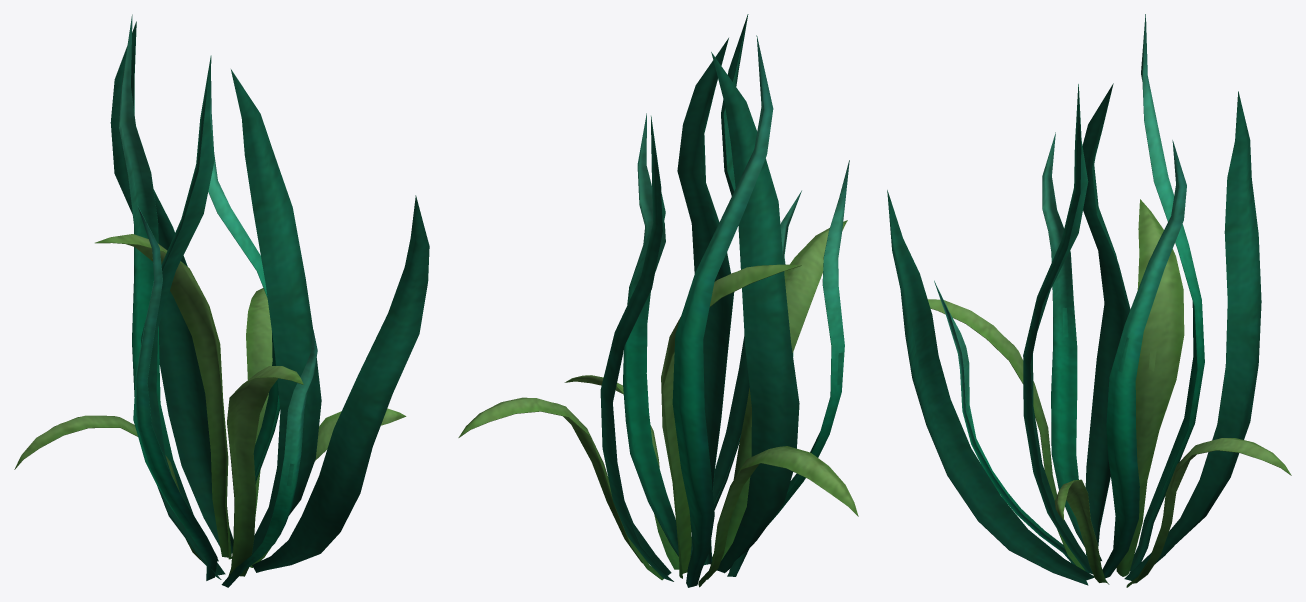
File: SHANHU3.fbx
3 renders of one model, left to right at view 1: azimuth 30°, elevation 25°; view 2: azimuth 150°, elevation 25°; view 3: azimuth 270°, elevation 25°, orthographic. The views are drawn at different scales.
Parts seen in each view (by area): view 1: Cartoon_Seaweed_10_12_Cartoon_Seaweed_10_0; view 2: Cartoon_Seaweed_10_12_Cartoon_Seaweed_10_0; view 3: Cartoon_Seaweed_10_12_Cartoon_Seaweed_10_0.
Boxes of the visible parts, <box> form: Cartoon_Seaweed_10_12_Cartoon_Seaweed_10_0: <box>14,14,429,587</box>; Cartoon_Seaweed_10_12_Cartoon_Seaweed_10_0: <box>458,14,858,587</box>; Cartoon_Seaweed_10_12_Cartoon_Seaweed_10_0: <box>887,14,1291,587</box>.
Bounding box in the file's own units: 53.48 × 84.45 × 58.78.
